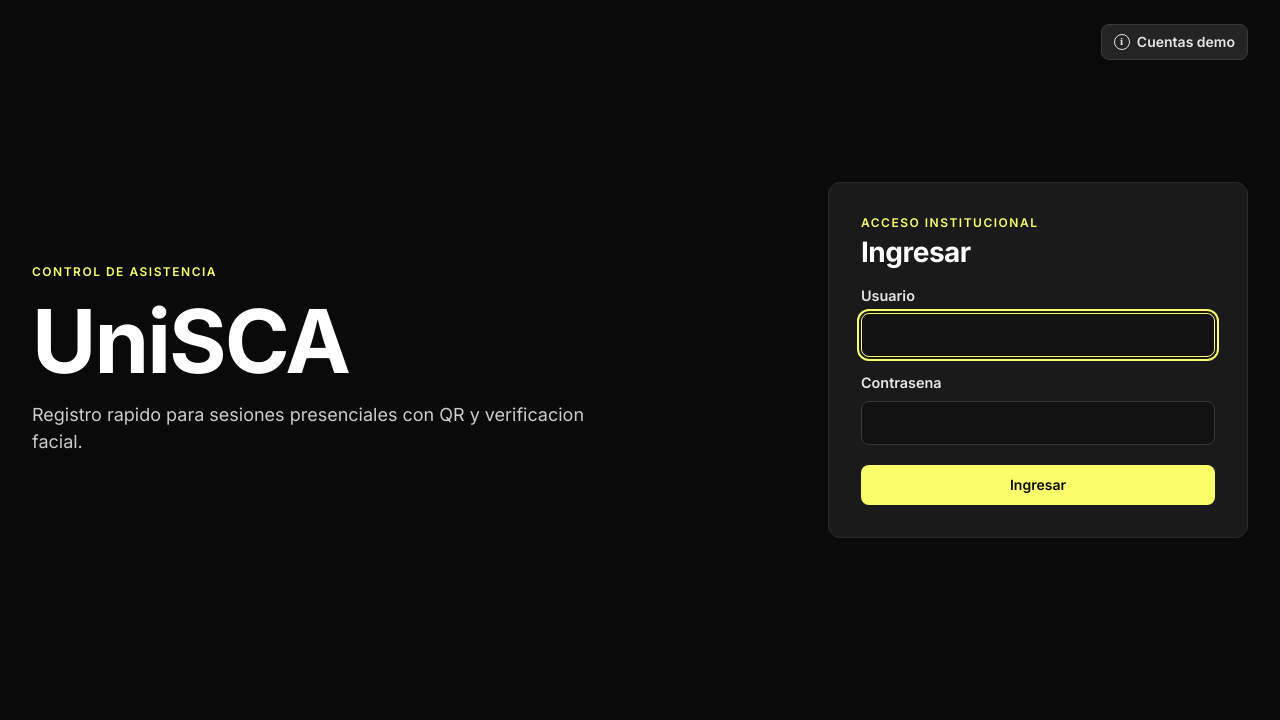
shows an empty state when demo users are not configured
The image size is (1280, 720).
Click the button with aria-label "Información de cuentas de demostración" at point(1174, 42), box [1101, 24, 1248, 60]
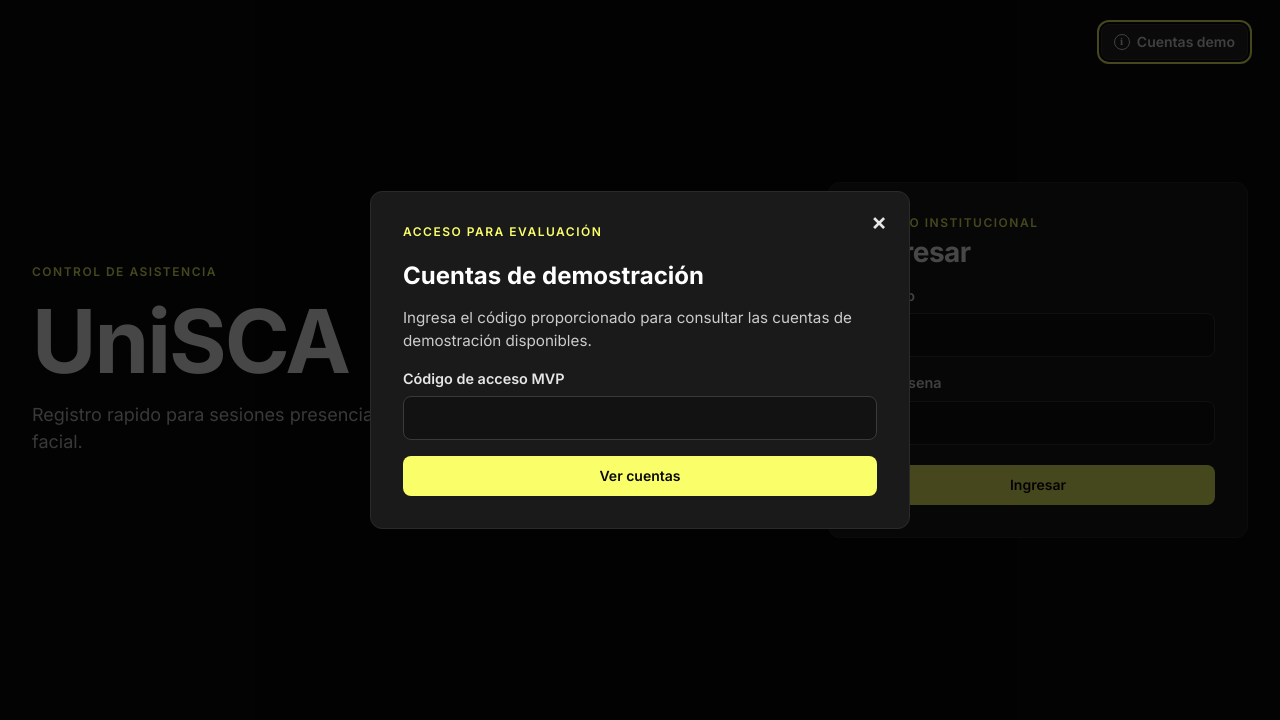
Type "unisca159" into the password field labelled "Código de acceso MVP" at point(640, 418), box [403, 396, 877, 440]
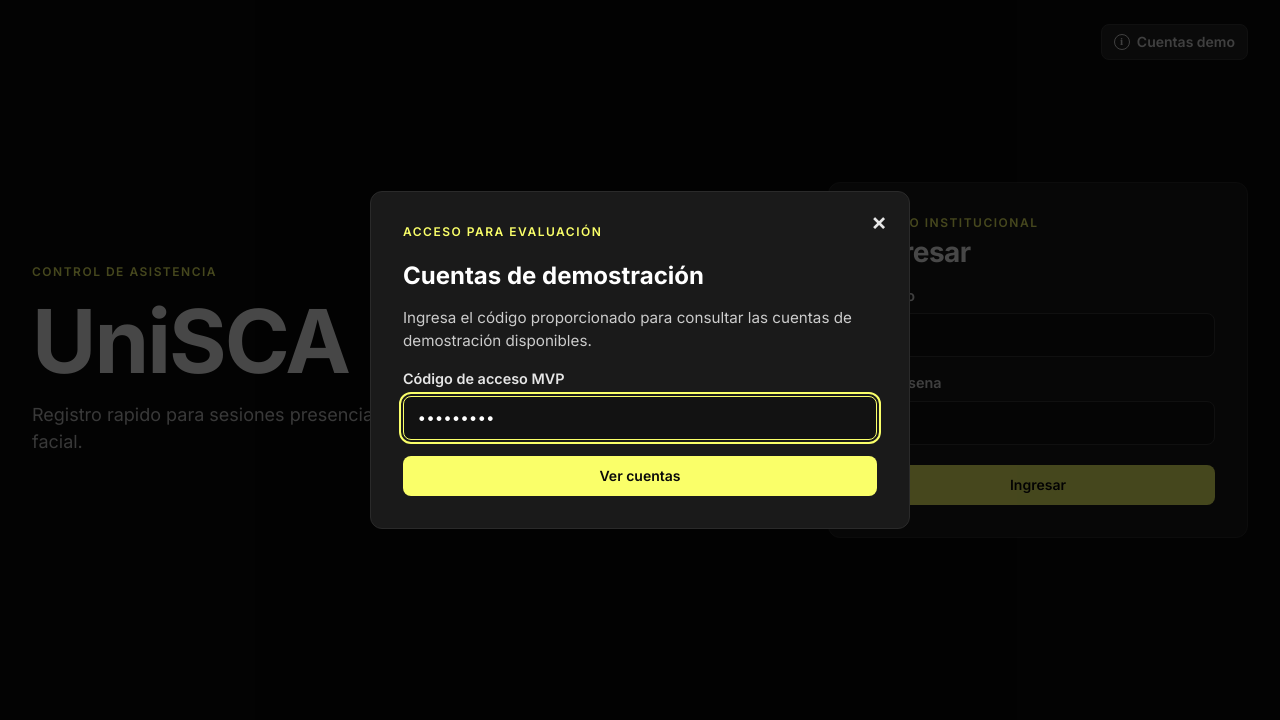
Click the button "Ver cuentas" at point(640, 476), box [403, 456, 877, 496]
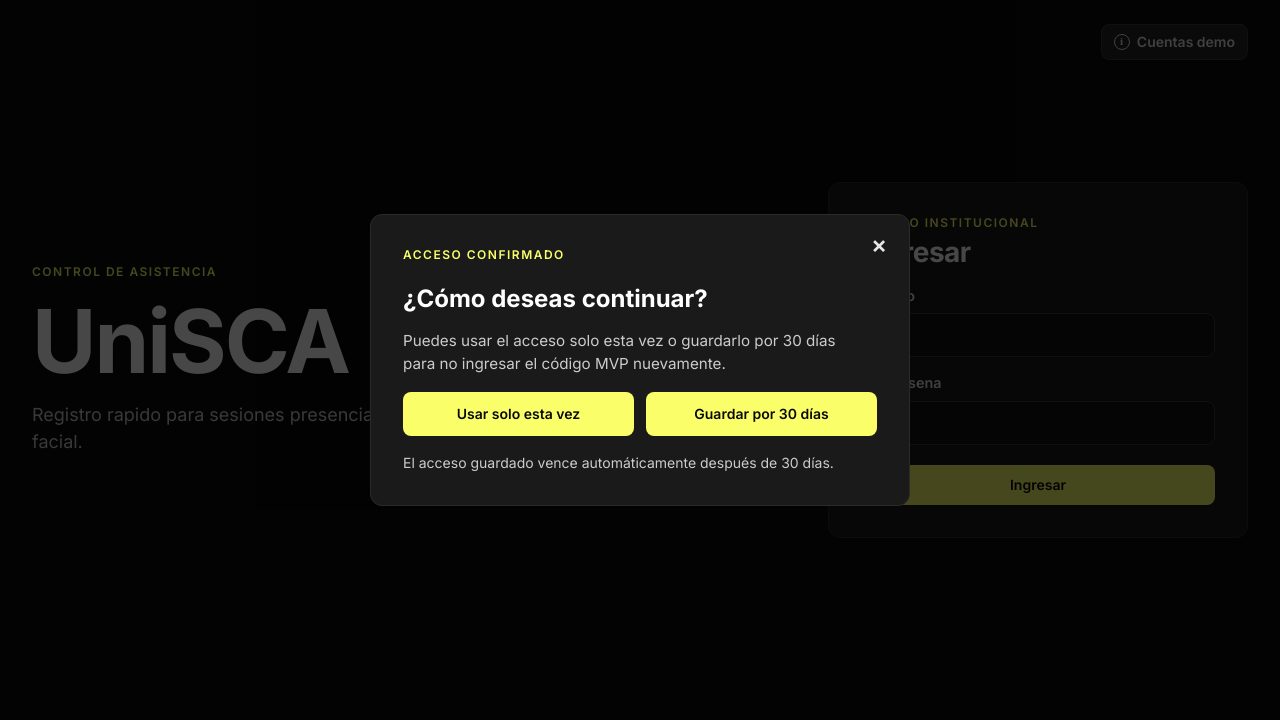
Click the button "Usar solo esta vez" at point(518, 414), box [403, 392, 634, 436]
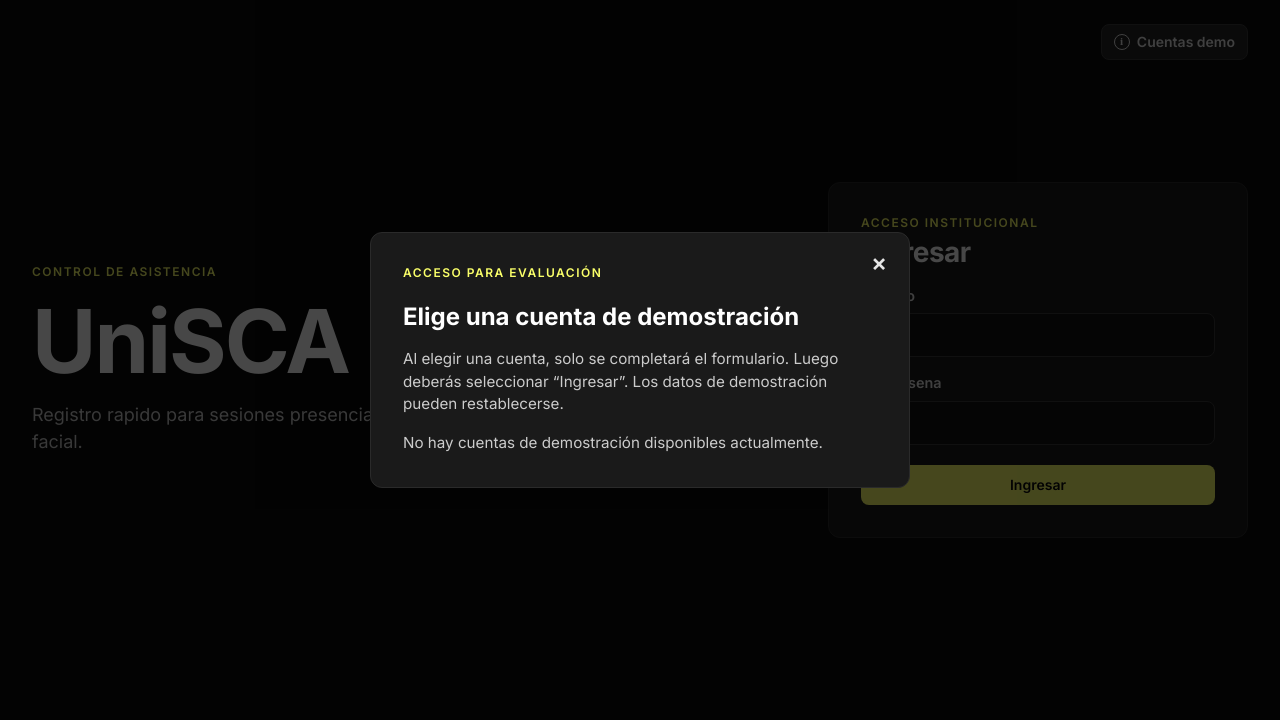
Now the message reads "No hay cuentas de demostración disponibles actualmente.", box [403, 433, 823, 452]
